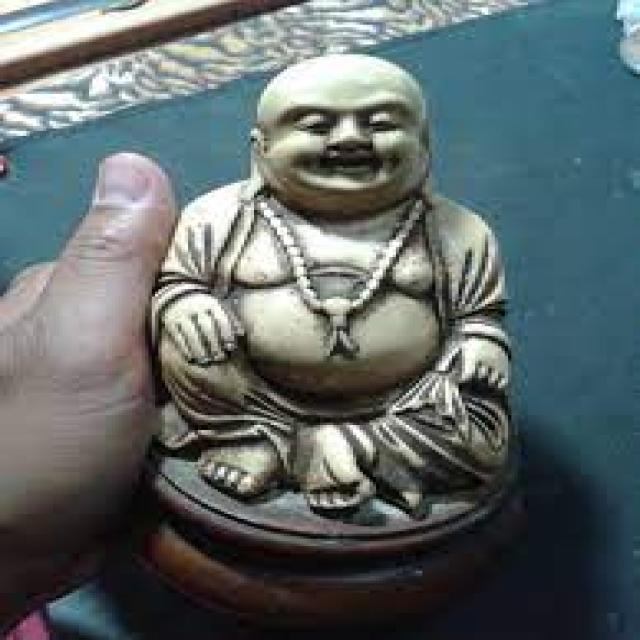Smiling Buddha: (142, 56, 510, 501)
